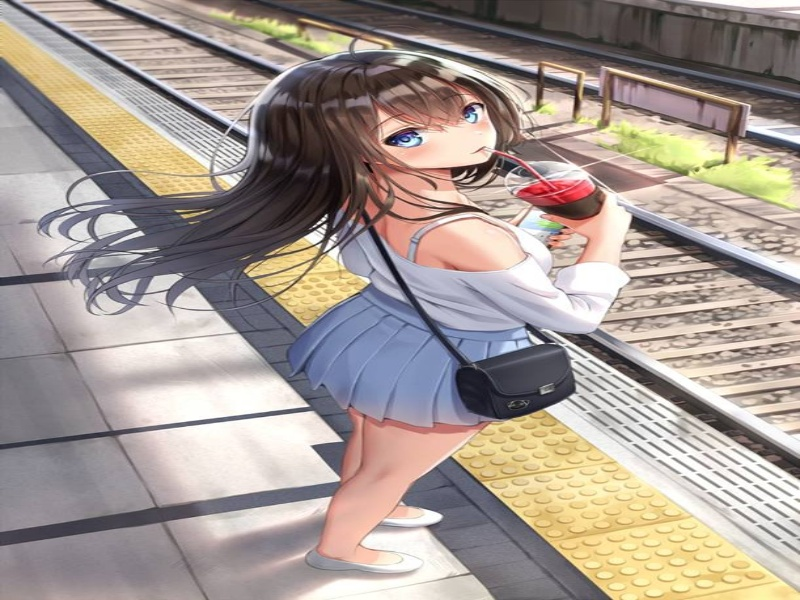dress: (283, 274, 585, 432)
ice_cream: (505, 149, 629, 239)
person: (236, 37, 533, 199)
